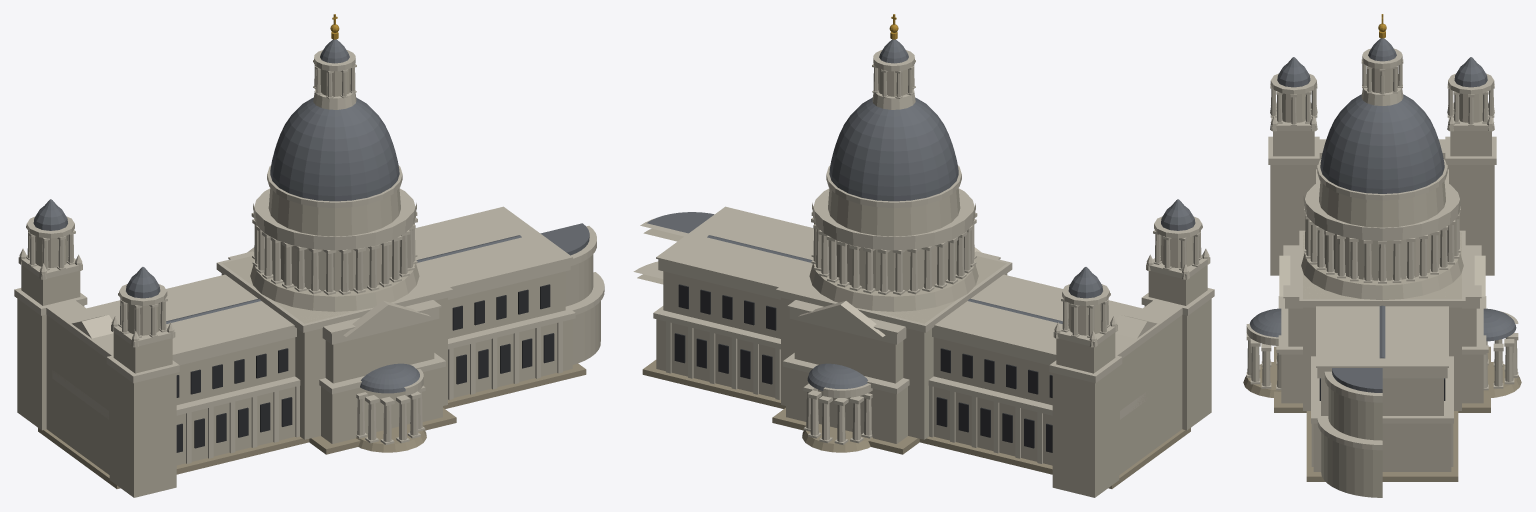
The model's file is st_pauls_cathedral.glb.
3 renders of one model, left to right at view 1: azimuth 30°, elevation 25°; view 2: azimuth 150°, elevation 25°; view 3: azimuth 270°, elevation 25°, orthographic. The views are drawn at different scales.
Parts seen in each view (by area): view 1: st_pauls_cathedral; view 2: st_pauls_cathedral; view 3: st_pauls_cathedral.
Part boxes in pixels (x1=…): st_pauls_cathedral: x1=14, y1=14, x2=604, y2=497; st_pauls_cathedral: x1=633, y1=14, x2=1214, y2=497; st_pauls_cathedral: x1=1243, y1=14, x2=1521, y2=497.
Size of the model in its own units: 160 by 112 by 77.
